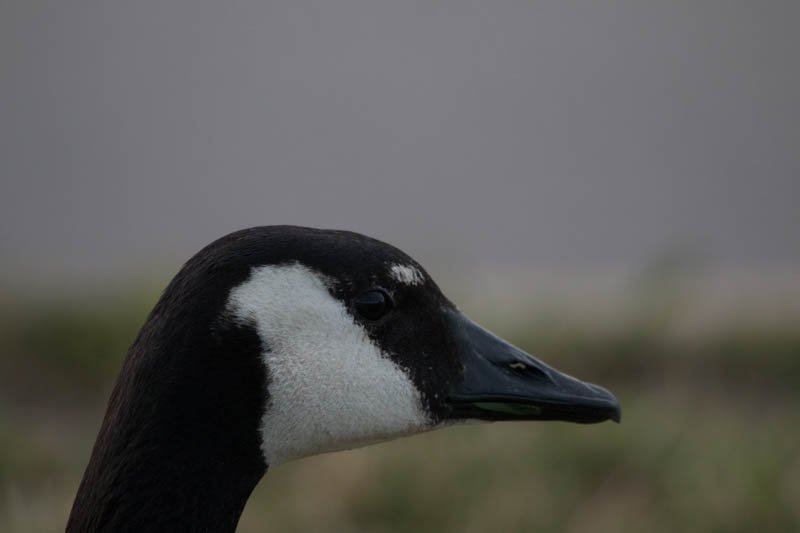goose-head: (135, 223, 622, 472)
